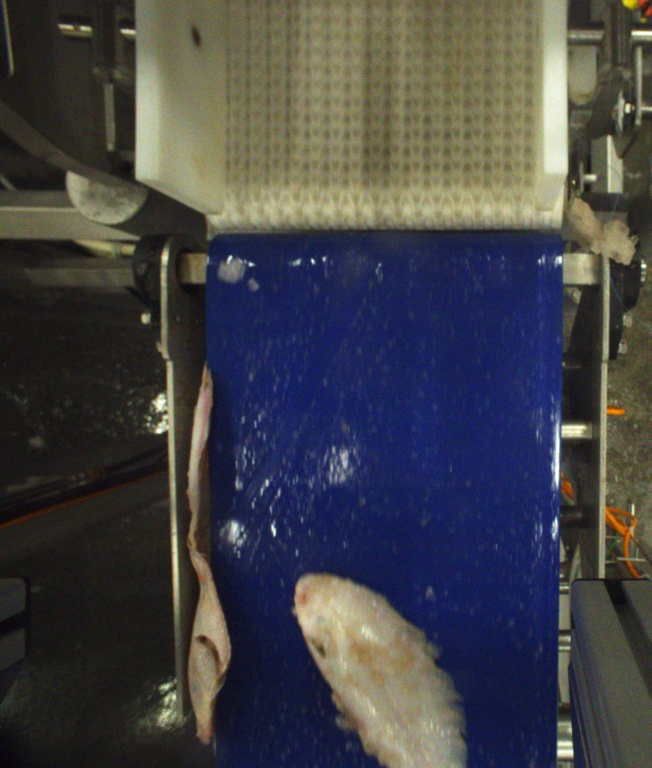SOL: (293, 571, 467, 768)
